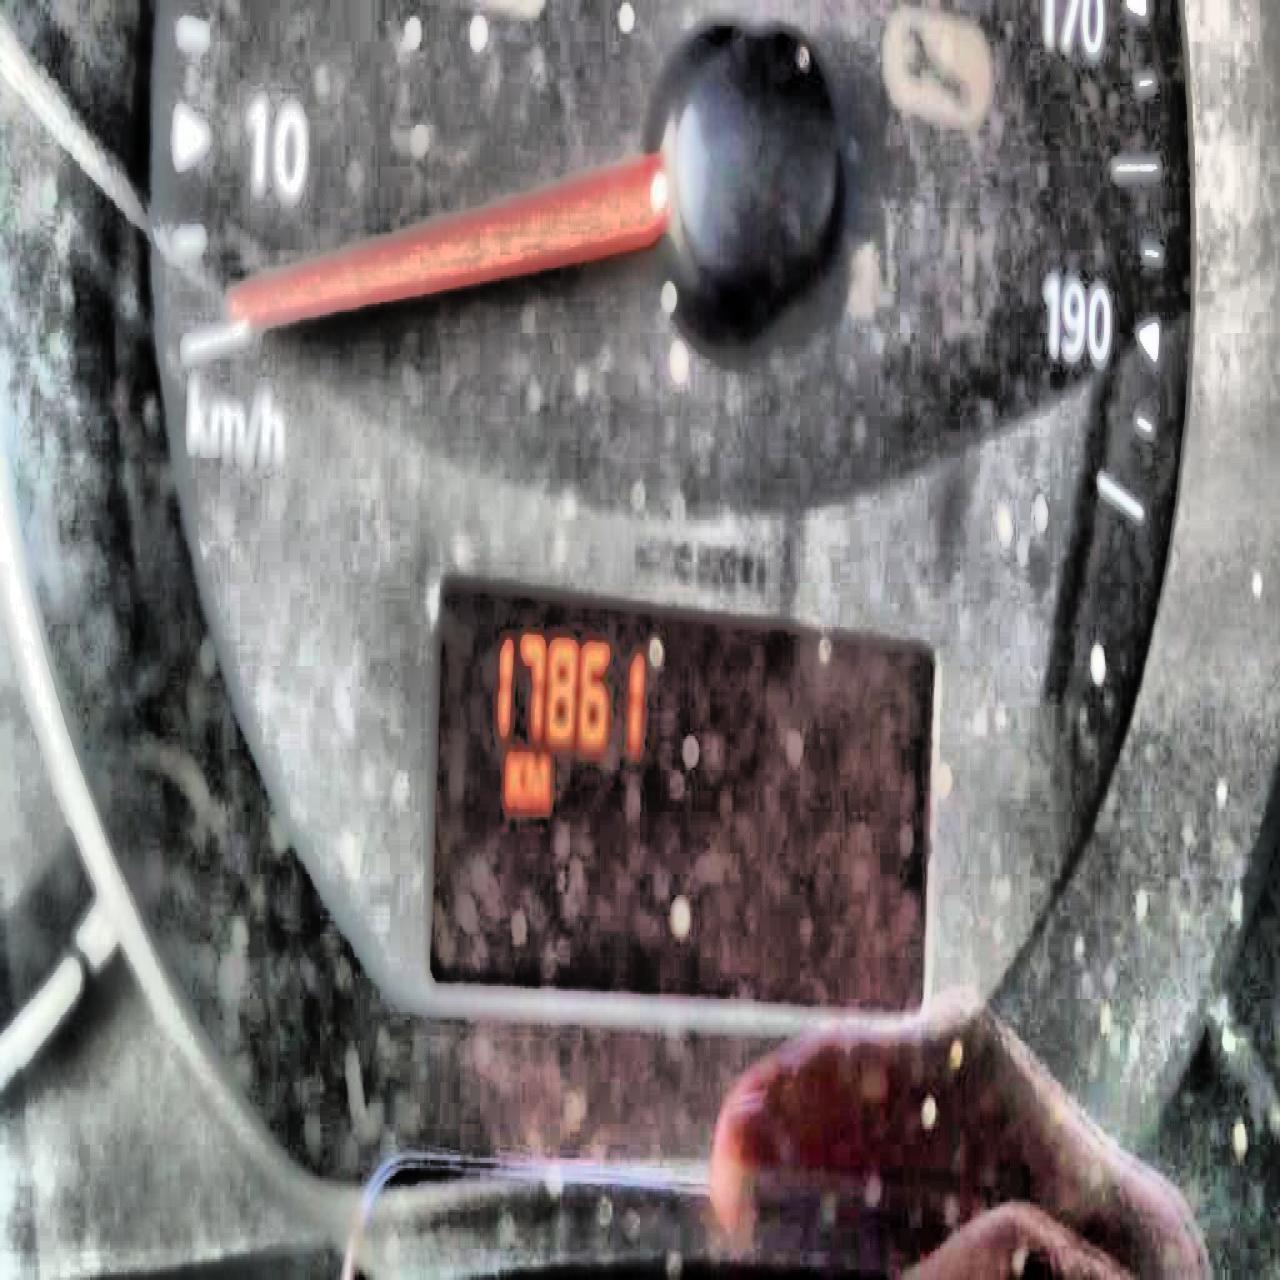1: (490, 619, 515, 744), (624, 638, 644, 772)
6: (578, 632, 612, 751)
7: (517, 622, 544, 738)
8: (546, 629, 576, 751)
X: (523, 744, 552, 813), (503, 744, 524, 812)
odometer: (421, 576, 941, 1028)
